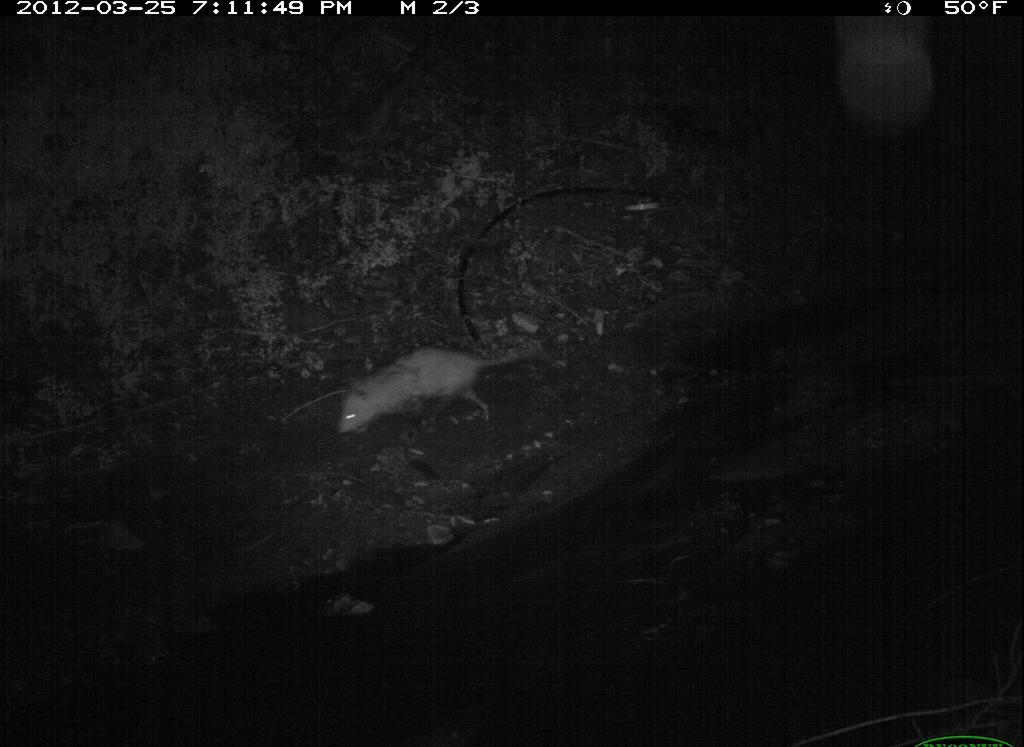opossum: (319, 333, 565, 449)
